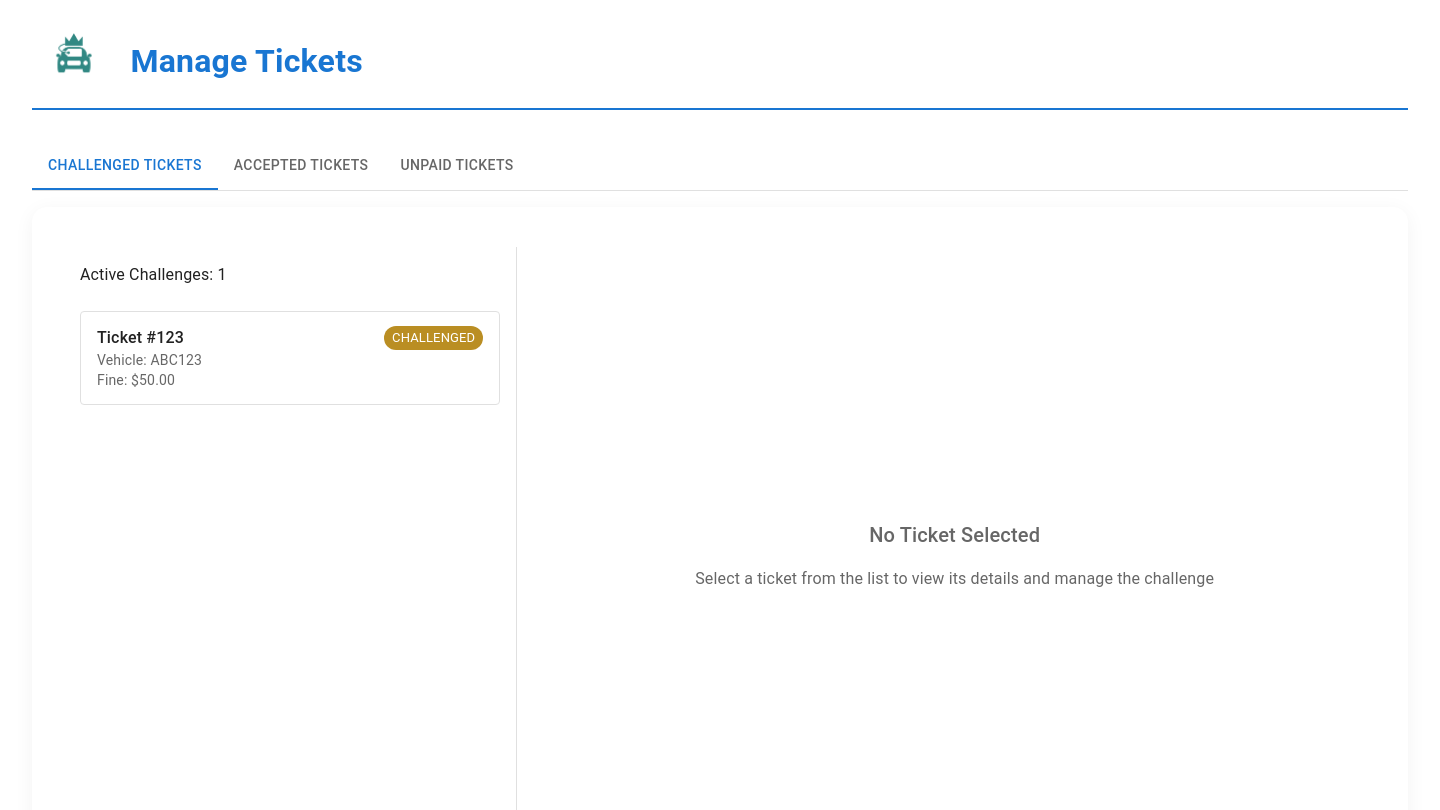
Test: switches to accepted tickets tab
Click the tab "Accepted Tickets" at (301,166), box [218,142,384,190]
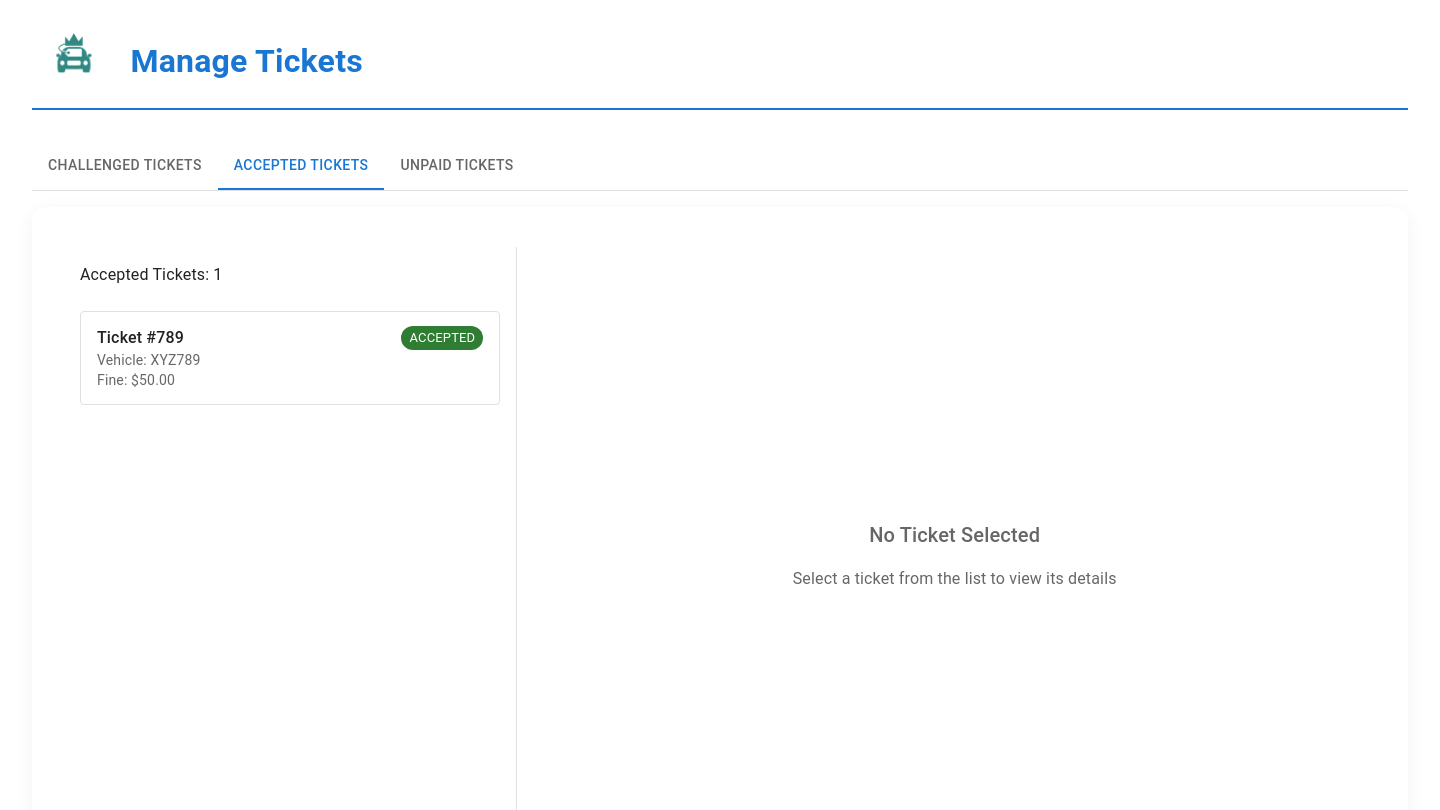
Now the text "Accepted Tickets: 1" is shown, box [80,265,222,284]
Now the text "XYZ789" is shown, box [150,352,201,368]
